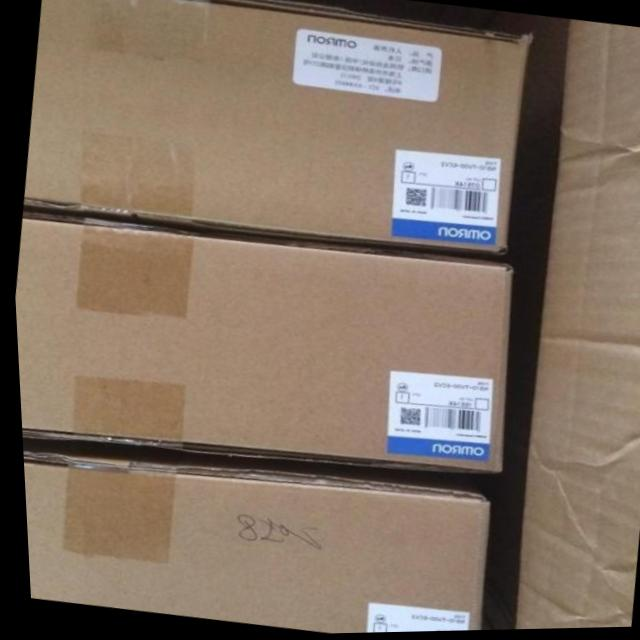box: (12, 212, 509, 479), (21, 0, 528, 259), (18, 451, 486, 635)
